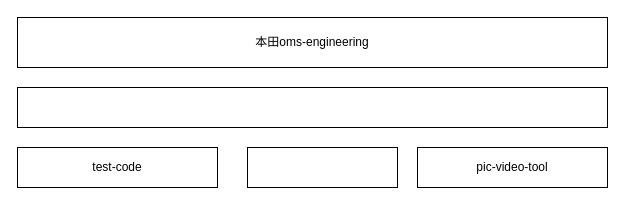
This 625x205 diagram has some shape labels left out. Here are the shapes that lost their labels. From the top down, the centre of each, then its label:
At (x=312, y=107): "pic-video-decoder".
At (x=322, y=167): "stability-tool".
